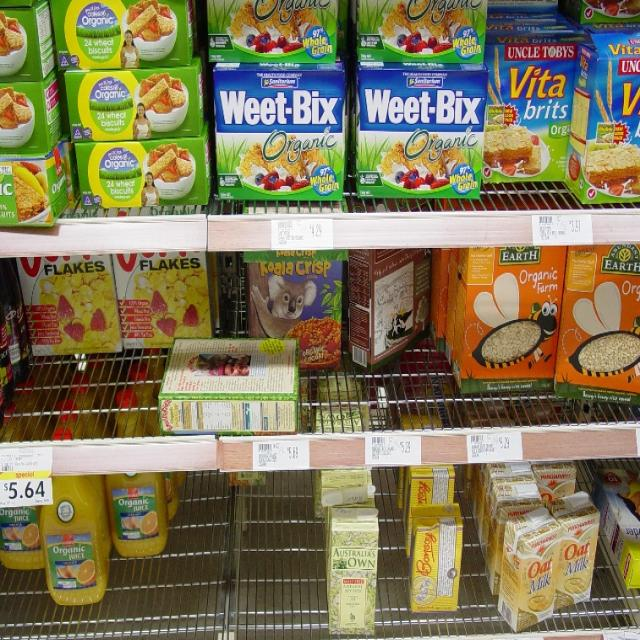q7: (209, 62, 347, 206), (356, 64, 482, 205)
